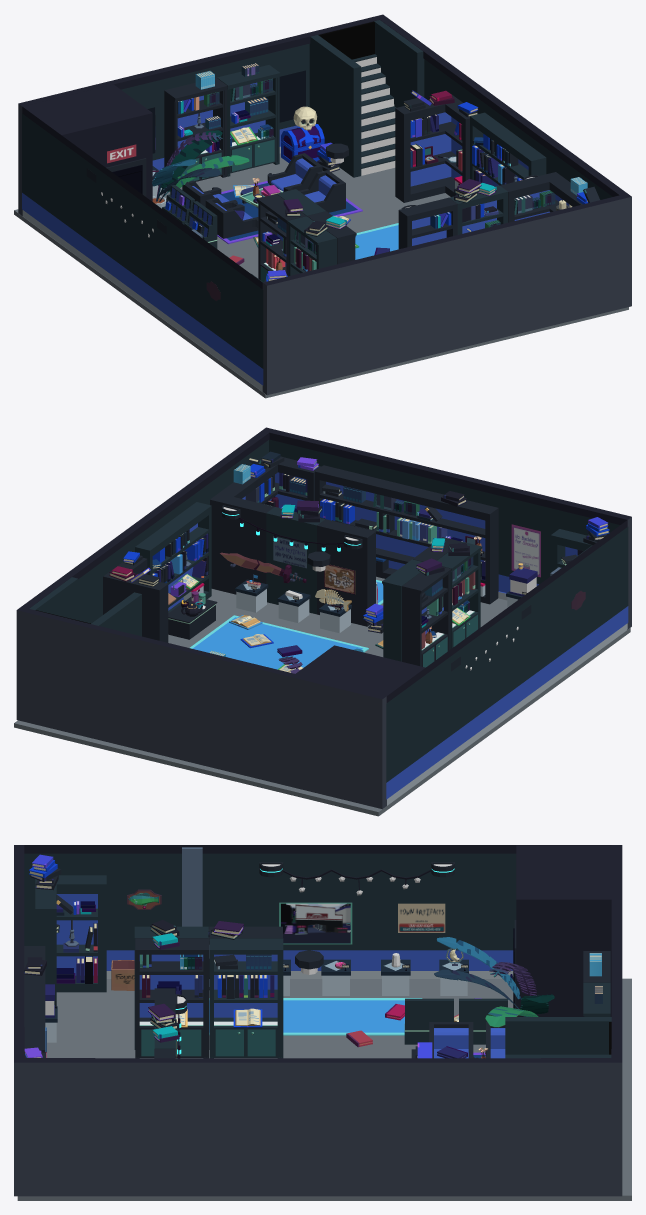
File: INT_BooksDump.fbx
3 renders of one model, top to bottom at view 1: azimuth 30°, elevation 25°; view 2: azimuth 150°, elevation 25°; view 3: azimuth 270°, elevation 25°, orthographic. The views are drawn at different scales.
Parts seen in each view (by area): view 1: Walls.003, Cube.009, Cube.010, LBookshelf, Cube.012, CubeHome.003, Cube.029, Cube.030, Cube.013, Plants.019, Bookshelf02.002, Bookshelf01.001 (+19 smaller); view 2: Walls.003, Cube.009, Bookshelf02.001, LBookshelf.004, Rug.002, Cube.021, Bookshelf01.001, Cube.010, Bookshelf02.002, Bookshelf01, LBookshelf, Cube.017 (+19 smaller); view 3: Walls.003, Cube.009, Cube.010, Cube.018, LBookshelf.002, Cube.020, Rug.004, Cube.012, Plants.019, Posters.016, Bookshelf02.001, BookStands (+24 smaller).
Part boxes in pixels (left/top/right/bottom): Walls.003: left=18, top=14, right=631, bottom=395; Cube.009: left=14, top=153, right=628, bottom=398; Cube.010: left=23, top=84, right=152, bottom=201; LBookshelf: left=395, top=94, right=477, bottom=202; Cube.012: left=309, top=35, right=361, bottom=177; CubeHome.003: left=318, top=21, right=395, bottom=175; Cube.029: left=217, top=65, right=280, bottom=176; Cube.030: left=164, top=77, right=227, bottom=181; Cube.013: left=374, top=20, right=424, bottom=107; Plants.019: left=152, top=130, right=249, bottom=201; Bookshelf02.002: left=470, top=112, right=546, bottom=186; Bookshelf01.001: left=398, top=197, right=457, bottom=249; Walls.003: left=16, top=427, right=631, bottom=809; Cube.009: left=14, top=576, right=630, bottom=816; Bookshelf02.001: left=315, top=465, right=498, bottom=604; LBookshelf.004: left=210, top=457, right=321, bottom=594; Rug.002: left=190, top=615, right=368, bottom=669; Cube.021: left=402, top=567, right=451, bottom=667; Bookshelf01.001: left=317, top=519, right=375, bottom=626; Cube.010: left=295, top=645, right=425, bottom=696; Bookshelf02.002: left=135, top=502, right=211, bottom=612; Bookshelf01: left=266, top=507, right=325, bottom=614; LBookshelf: left=103, top=558, right=168, bottom=642; Cube.017: left=437, top=542, right=482, bottom=649; Walls.003: left=14, top=845, right=622, bottom=1196; Cube.009: left=17, top=978, right=631, bottom=1200; Cube.010: left=514, top=845, right=611, bottom=1016; Cube.018: left=209, top=938, right=283, bottom=1058; LBookshelf.002: left=35, top=875, right=106, bottom=1006; Cube.020: left=135, top=938, right=208, bottom=1058; Rug.004: left=209, top=998, right=422, bottom=1035; Cube.012: left=505, top=1017, right=611, bottom=1054; Plants.019: left=434, top=937, right=554, bottom=1027; Posters.016: left=279, top=902, right=352, bottom=944; Bookshelf02.001: left=24, top=946, right=45, bottom=1052; BookStands: left=404, top=998, right=453, bottom=1044.
Bounding box in the file's own units: 1665 × 506 × 1996.
